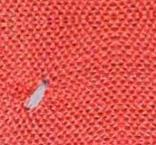hole: (21, 76, 55, 115)
